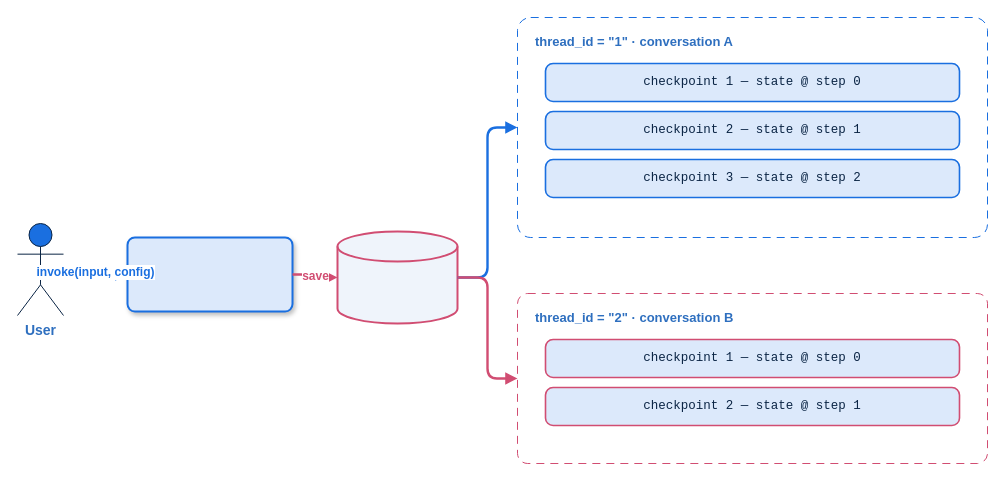
Image size: 1005x481. Some labels were removed from this diagram. The centre of each missing label's shape, as x and y in pixels:
"checkpointer" goes at pixel 397 277.
"Compiled Graph (your agent)" goes at pixel 210 275.
